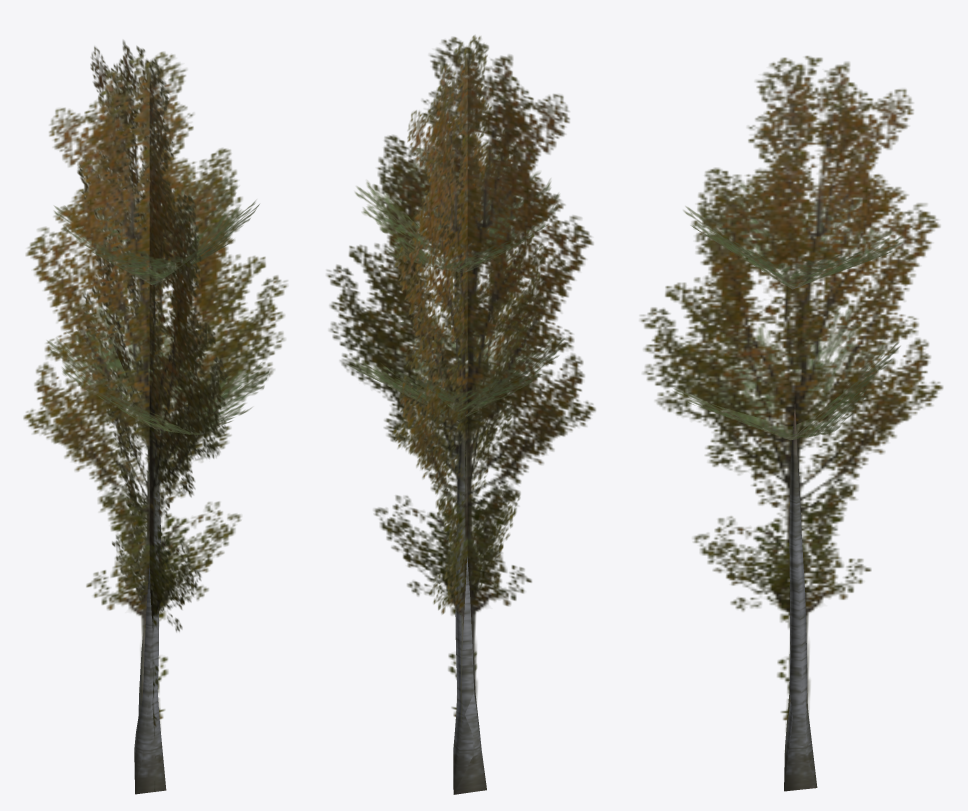
The model's file is forest_bg_tree_02.glb.
3 renders of one model, left to right at view 1: azimuth 30°, elevation 25°; view 2: azimuth 150°, elevation 25°; view 3: azimuth 270°, elevation 25°, orthographic. The views are drawn at different scales.
Parts seen in each view (by area): view 1: Background_Tree_Atlas.001_Background_Tree_Atlas_0; view 2: Background_Tree_Atlas.001_Background_Tree_Atlas_0; view 3: Background_Tree_Atlas.001_Background_Tree_Atlas_0.
Part boxes in pixels (x1,y1,x2,y2): Background_Tree_Atlas.001_Background_Tree_Atlas_0: [23, 40, 287, 794]; Background_Tree_Atlas.001_Background_Tree_Atlas_0: [326, 35, 595, 794]; Background_Tree_Atlas.001_Background_Tree_Atlas_0: [640, 56, 942, 791].
Bounding box in the file's own units: 1.75 × 4.5 × 1.75.
1 material, 1 textured.
